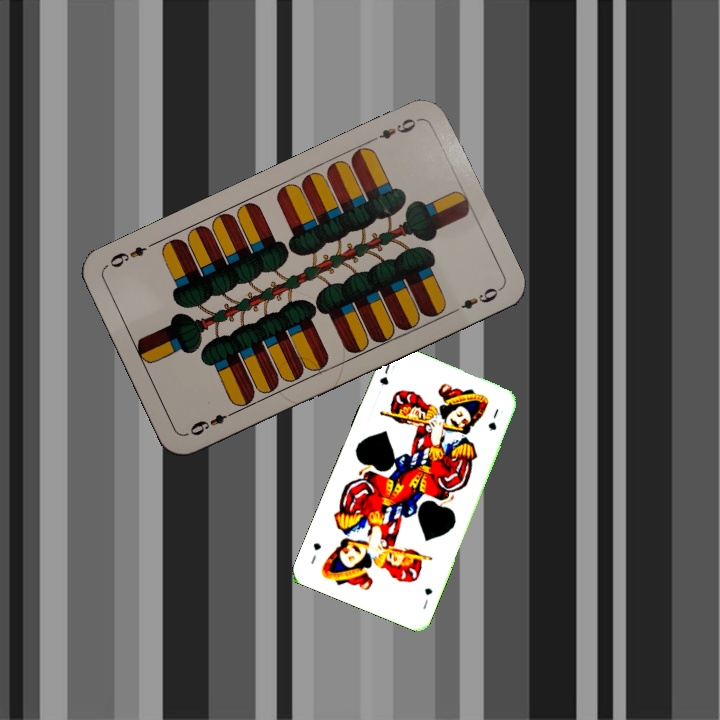E9: (185, 406, 239, 439), (366, 114, 422, 145)
GU: (375, 359, 398, 389), (419, 584, 435, 612)
